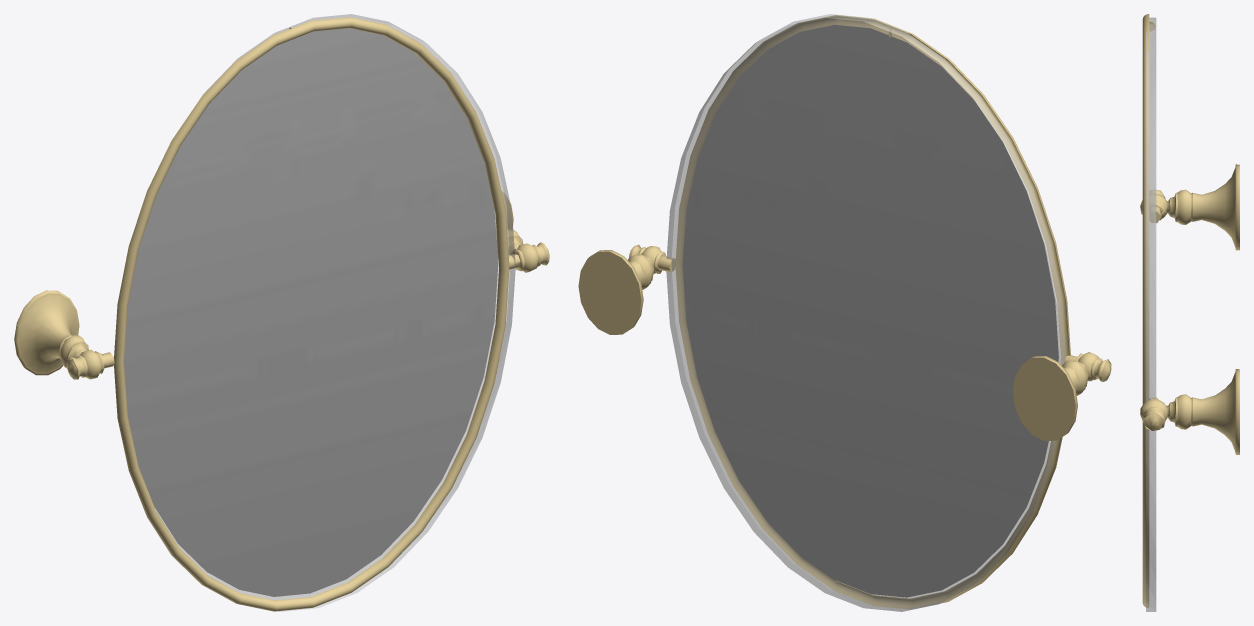
File: mirror 3.glb
The picture shows the model from 3 angles, left to right: view 1: azimuth 30°, elevation 25°; view 2: azimuth 150°, elevation 25°; view 3: azimuth 270°, elevation 25°; orthographic projection. The views are drawn at different scales.
Parts seen in each view (by area): view 1: mirror, frame-1, frame-2; view 2: frame-2, mirror, frame-1; view 3: frame-1, frame-2.
Boxes of the visible parts, box(x1,y1,x2,y2) form: mirror: box(124, 28, 498, 596); frame-1: box(14, 17, 549, 611); frame-2: box(155, 14, 515, 611); frame-2: box(666, 14, 1065, 611); mirror: box(682, 25, 1058, 597); frame-1: box(578, 15, 1111, 609); frame-1: box(1140, 14, 1239, 607); frame-2: box(1146, 17, 1156, 611).
Bounding box in the file's own units: 37.44 × 42.25 × 6.73.
Materials: 3 (1 with a texture image).
